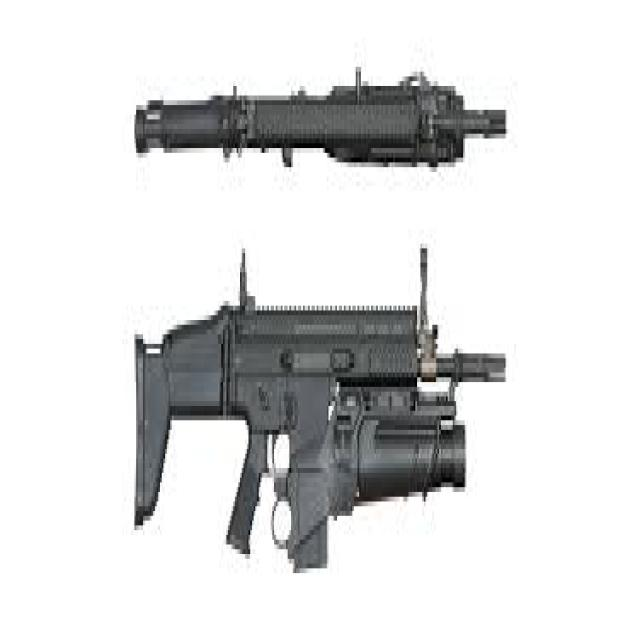Gun: (109, 256, 519, 568), (114, 60, 513, 177)
